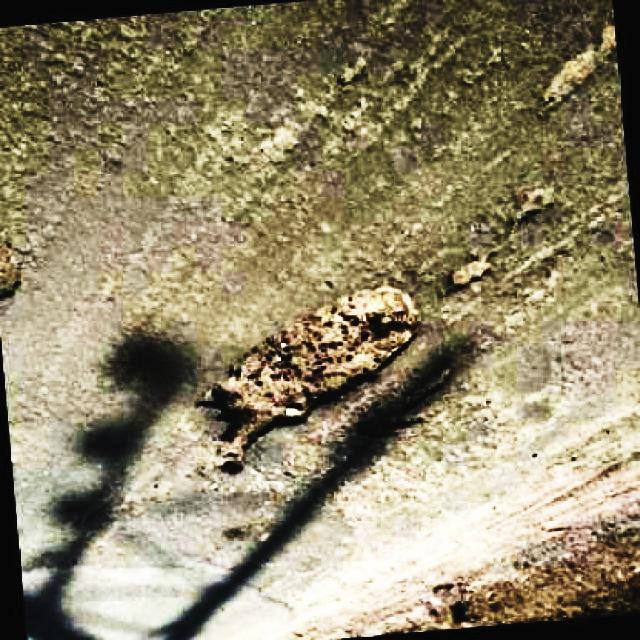pothole: (199, 277, 423, 458), (534, 23, 620, 125), (357, 366, 455, 439), (512, 181, 562, 234), (443, 254, 494, 298)
